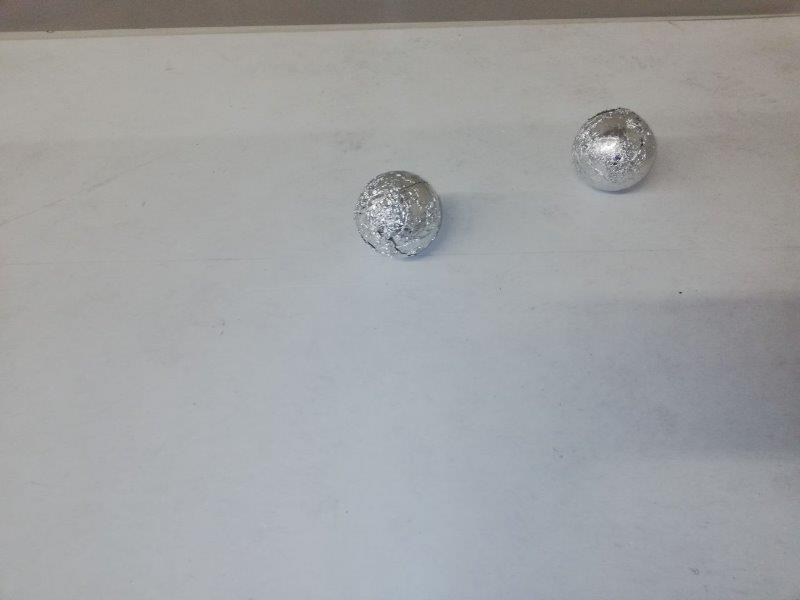bianca: (351, 169, 443, 259), (574, 108, 655, 193)
